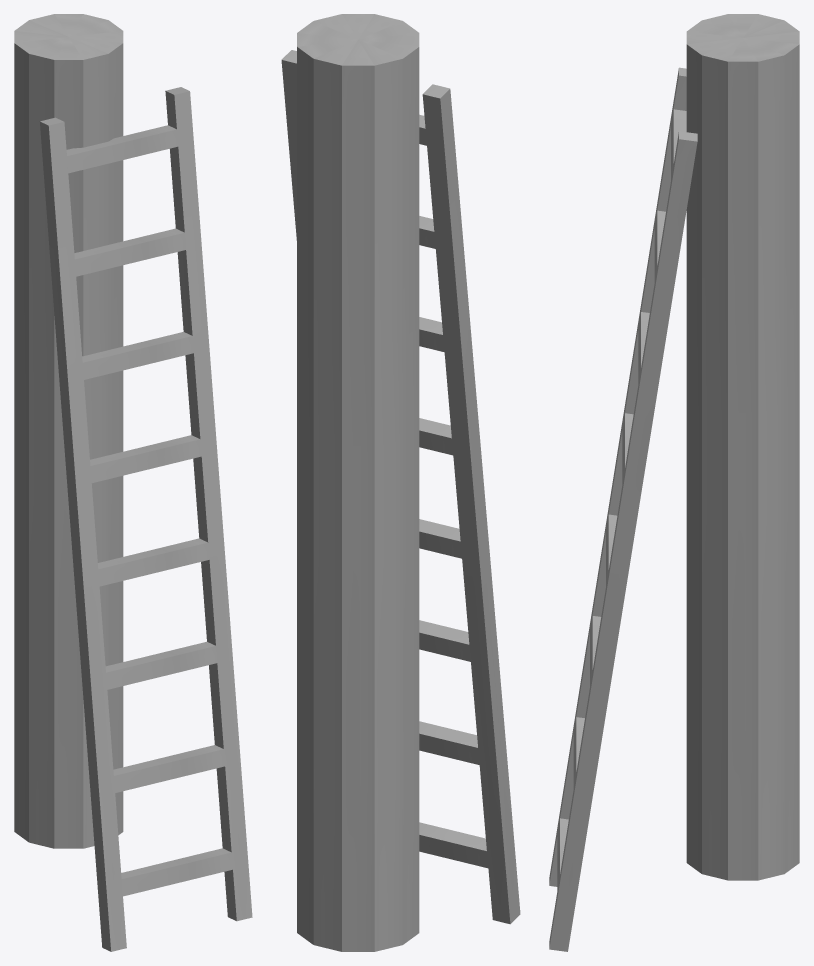
File: single_signal_pole.obj
3 views of the same model, side by side, from view 1: azimuth 30°, elevation 25°; view 2: azimuth 150°, elevation 25°; view 3: azimuth 270°, elevation 25° (orthographic). The views are drawn at different scales.
Parts seen in each view (by area): view 1: cylinder, cube; view 2: cylinder, cube; view 3: cylinder, cube.
Boxes of the visible parts, box(x1,y1,x2,y2) form: cylinder: box(14, 14, 123, 848); cube: box(39, 87, 252, 951); cylinder: box(297, 14, 419, 951); cube: box(281, 50, 520, 924); cylinder: box(686, 14, 799, 880); cube: box(549, 67, 697, 951).
Bounding box in the file's own units: 0.5625 × 3.18 × 0.8313.
1 material, 1 textured.
